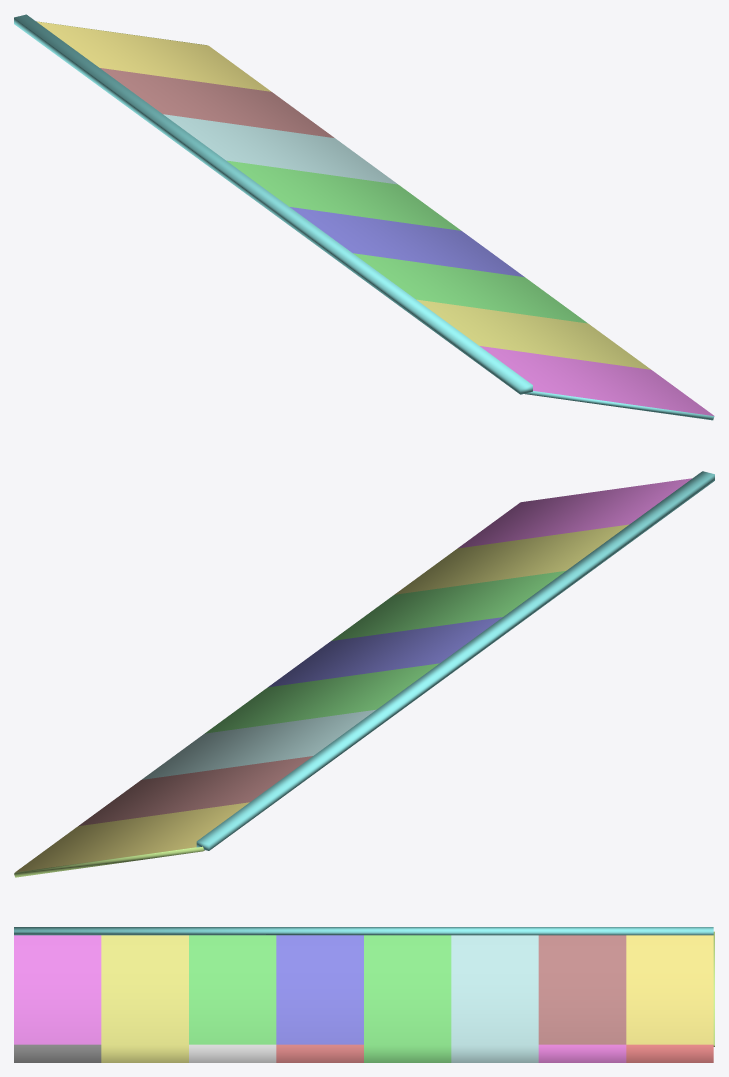
The model's file is SM_shopCanopy_01.gltf.
3 renders of one model, top to bottom at view 1: azimuth 30°, elevation 25°; view 2: azimuth 150°, elevation 25°; view 3: azimuth 270°, elevation 25°, orthographic. The views are drawn at different scales.
Parts seen in each view (by area): view 1: SM_shopCanopy_01; view 2: SM_shopCanopy_01; view 3: SM_shopCanopy_01.
Boxes of the visible parts, x1=… form: SM_shopCanopy_01: x1=14, y1=14, x2=714, y2=420; SM_shopCanopy_01: x1=14, y1=471, x2=714, y2=877; SM_shopCanopy_01: x1=14, y1=927, x2=714, y2=1062.
Bounding box in the file's own units: 1.55 × 0.775 × 7.
